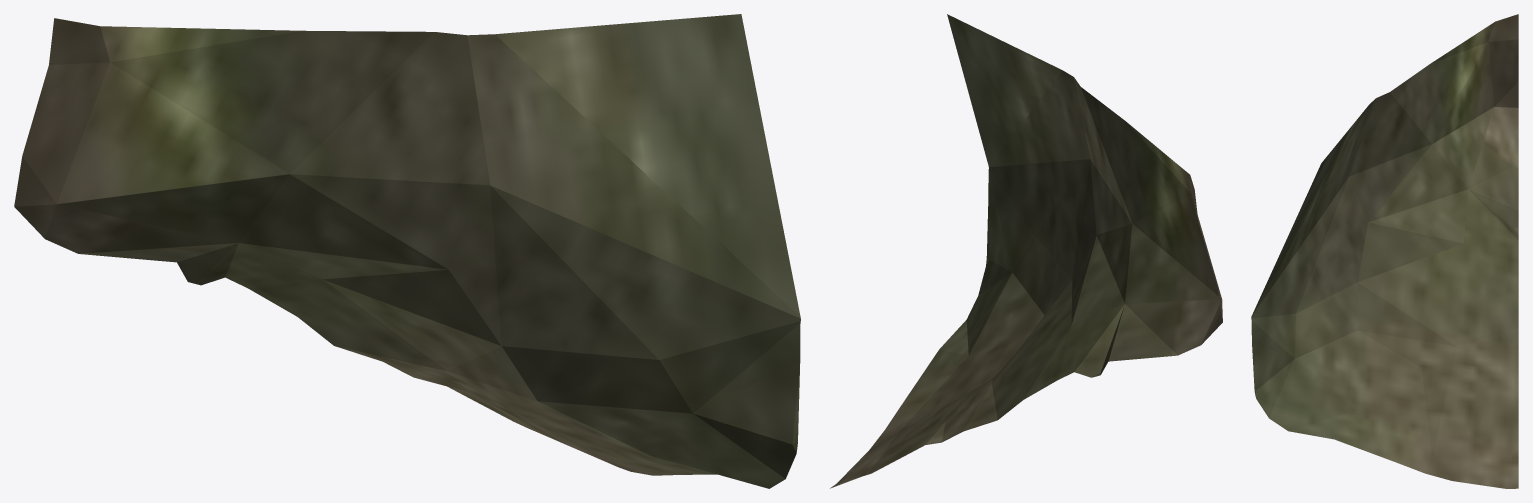
3 renders of one model, left to right at view 1: azimuth 30°, elevation 25°; view 2: azimuth 150°, elevation 25°; view 3: azimuth 270°, elevation 25°, orthographic. The views are drawn at different scales.
Size of the model in its own units: 2.44 by 2.31 by 1.72.
1 material, 1 textured.
